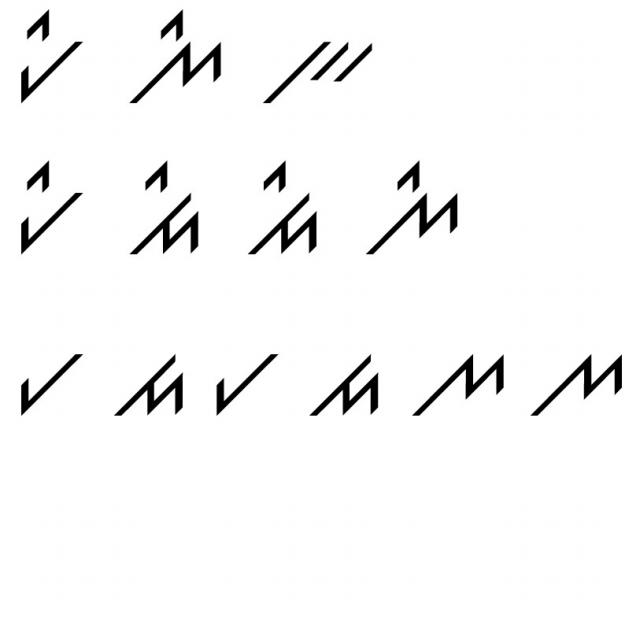da: (98, 344, 189, 422), (302, 346, 382, 431)
di: (233, 157, 333, 260), (120, 154, 202, 258)
na: (410, 336, 509, 428), (526, 338, 627, 428)
ni: (357, 159, 465, 261), (130, 10, 226, 117)
pa: (10, 334, 88, 418), (205, 342, 282, 420)
pi: (9, 150, 86, 260), (9, 7, 87, 105)
